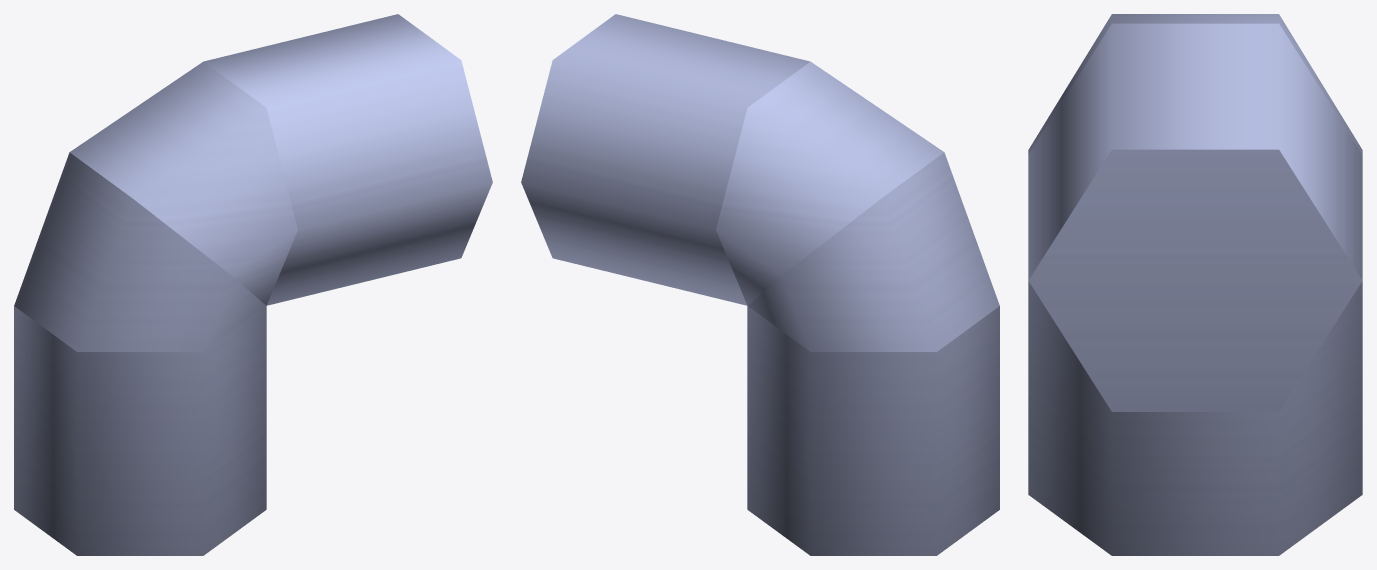
The model's file is pipe-bend.obj.
3 views of the same model, side by side, from view 1: azimuth 30°, elevation 25°; view 2: azimuth 150°, elevation 25°; view 3: azimuth 270°, elevation 25° (orthographic). The views are drawn at different scales.
Visible parts, largest first — view 1: pipe-bend; view 2: pipe-bend; view 3: pipe-bend.
Boxes of the visible parts, left/top/right/bottom form: pipe-bend: left=14, top=14, right=492, bottom=555; pipe-bend: left=521, top=14, right=999, bottom=555; pipe-bend: left=1028, top=14, right=1362, bottom=555.
Size of the model in its own units: 0.5 by 0.5 by 0.2845.
Materials: 1 (1 with a texture image).
